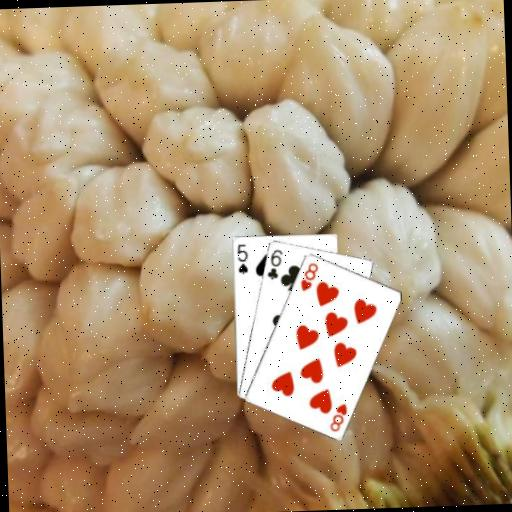5S: (234, 240, 249, 274)
6C: (263, 245, 285, 280)
8H: (296, 259, 320, 292), (325, 400, 349, 433)
